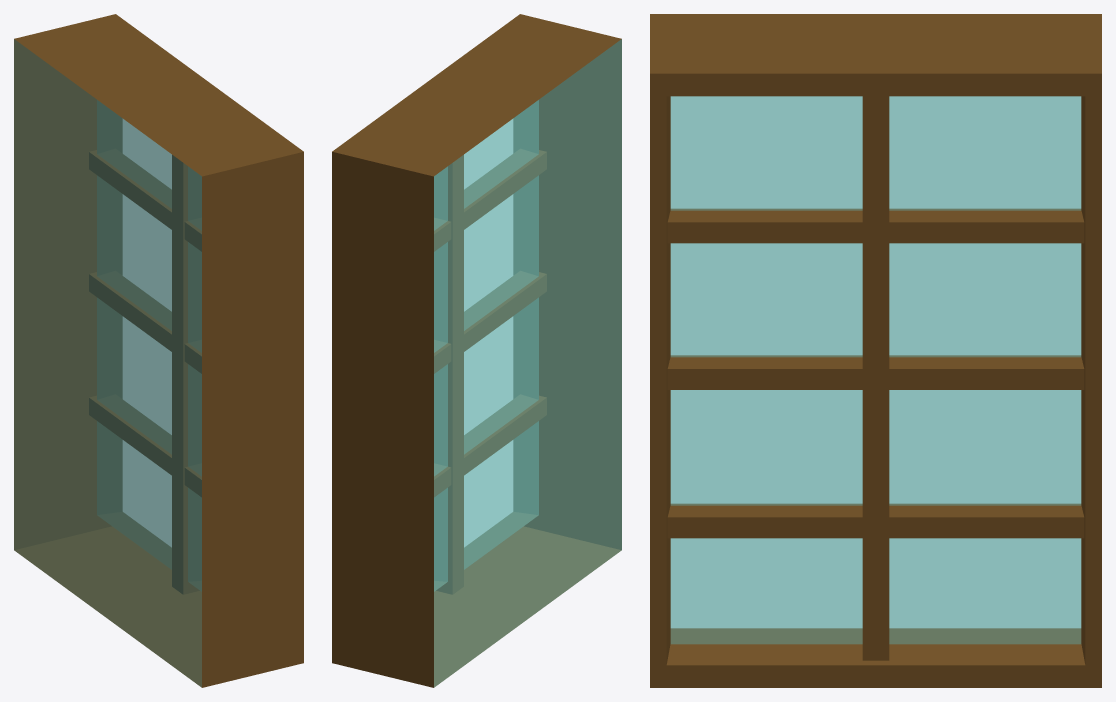
The model's file is mesh_ventana.fbx.
3 views of the same model, side by side, from view 1: azimuth 30°, elevation 25°; view 2: azimuth 150°, elevation 25°; view 3: azimuth 270°, elevation 25° (orthographic). The views are drawn at different scales.
Parts seen in each view (by area): view 1: Cube.044; view 2: Cube.044; view 3: Cube.044.
Boxes of the visible parts, x1=… form: Cube.044: x1=14, y1=14, x2=303, y2=687; Cube.044: x1=332, y1=14, x2=621, y2=687; Cube.044: x1=650, y1=14, x2=1101, y2=687.
Bounding box in the file's own units: 25 × 120 × 80.
